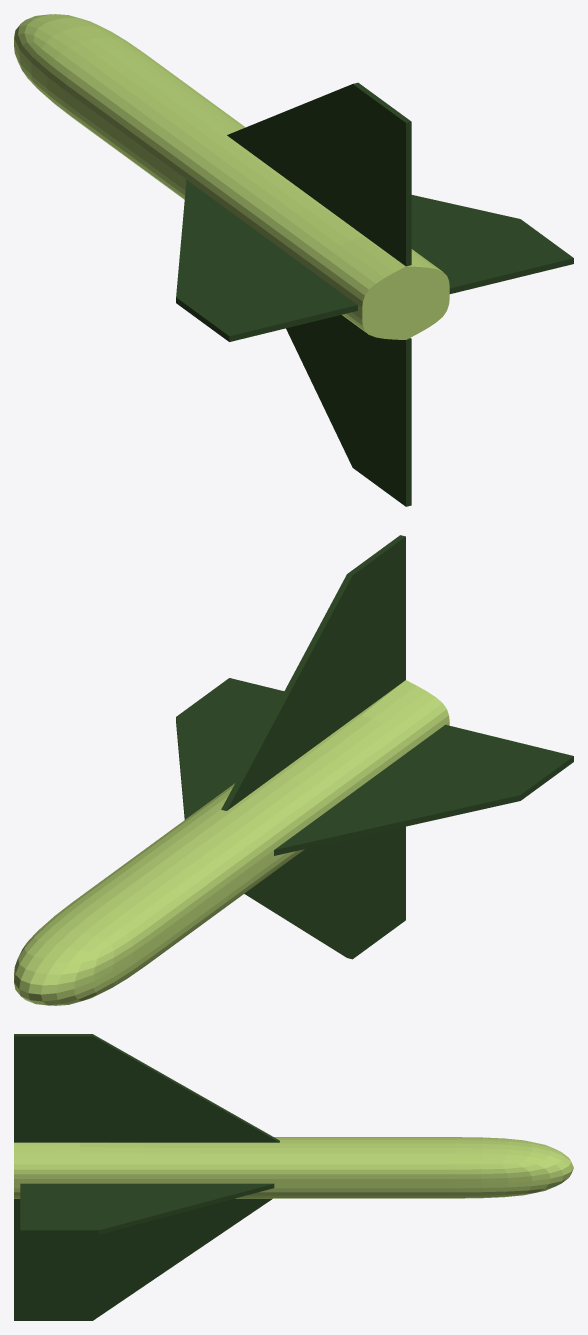
The model's file is missil.fbx.
The picture shows the model from 3 angles, top to bottom: view 1: azimuth 30°, elevation 25°; view 2: azimuth 150°, elevation 25°; view 3: azimuth 270°, elevation 25°; orthographic projection. The views are drawn at different scales.
Parts seen in each view (by area): view 1: Flaps, Body; view 2: Flaps, Body; view 3: Flaps, Body.
Boxes of the visible parts, <box> form: Flaps: <box>176,82,573,506</box>; Body: <box>14,14,449,339</box>; Flaps: <box>176,535,573,959</box>; Body: <box>14,680,449,1005</box>; Flaps: <box>14,1034,279,1320</box>; Body: <box>14,1137,573,1198</box>.
Size of the model in its own units: 61.13 by 65.08 by 116.
